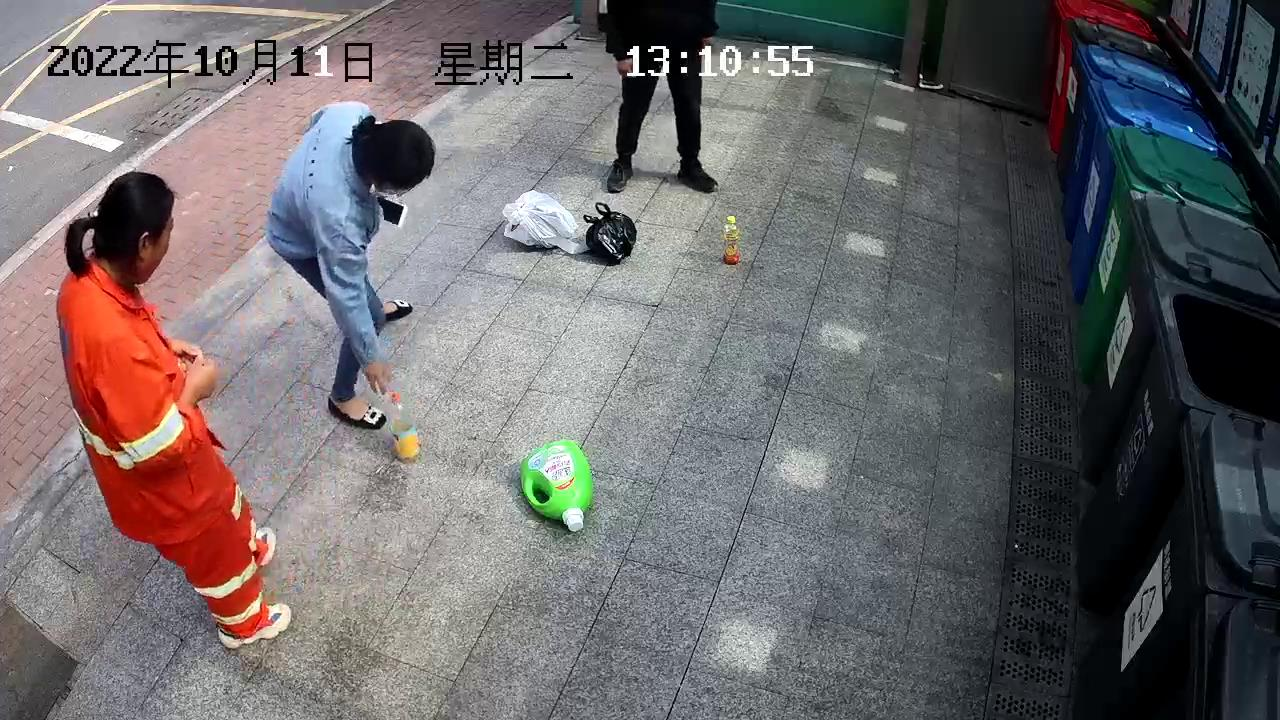garbage-bag: (499, 185, 581, 262), (579, 199, 639, 268)
suliaozhipin: (515, 436, 598, 537), (382, 387, 424, 465), (720, 212, 743, 267)
worker: (54, 170, 294, 652), (262, 98, 438, 437)
